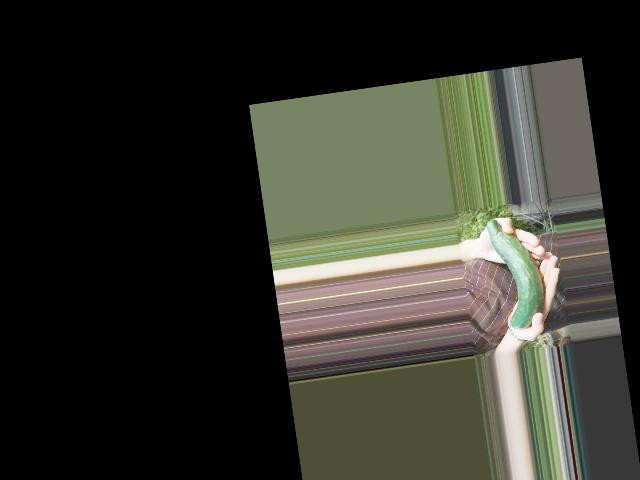cucumber: (486, 214, 548, 332)
